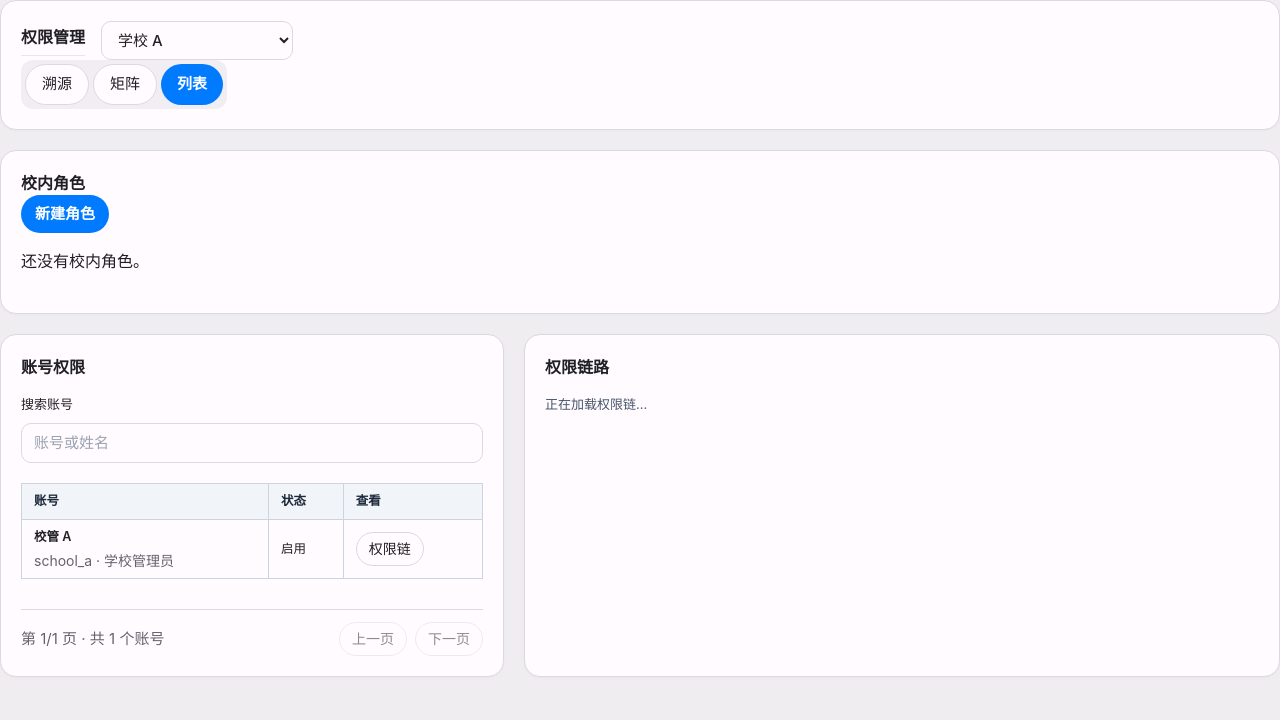
Test: AccessPanel › clears a pending permission detail when switching to a school with no accounts
Expected: the message shows "正在加载权限链", [545,396,647,412]
Select "学校 B" in the dropdown named "权限管理学校". click: (197, 40)
box: [101,21,293,60]
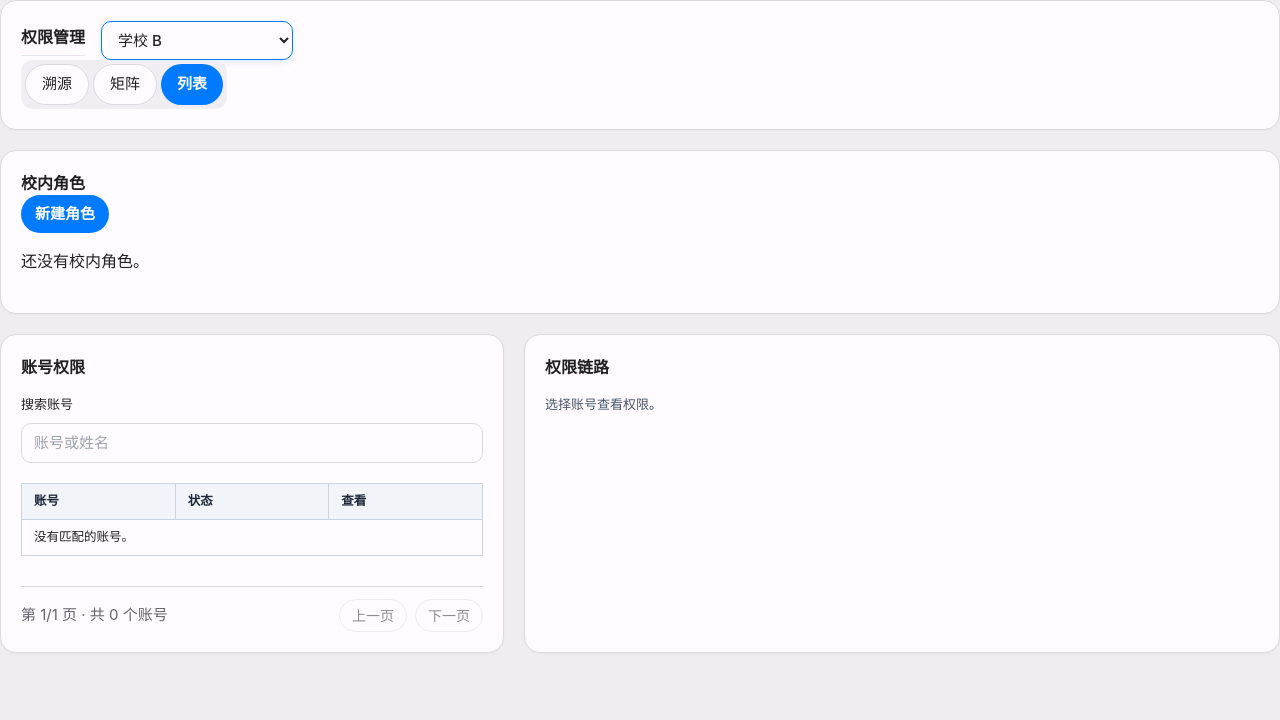
Expected: the text "没有匹配的账号。" is shown, [34,529,134,544]
Expected: the text "选择账号查看权限。" is shown, [545,396,662,412]
Expected: the text "校管 A" is gone
